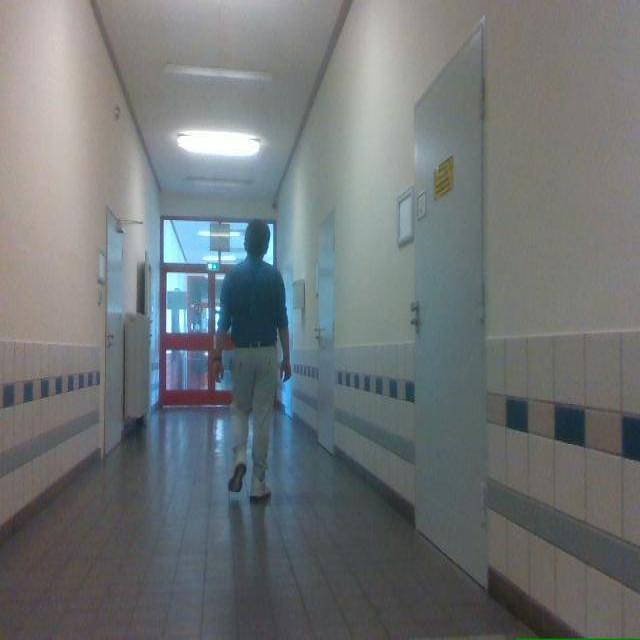humans: (214, 220, 290, 500)
